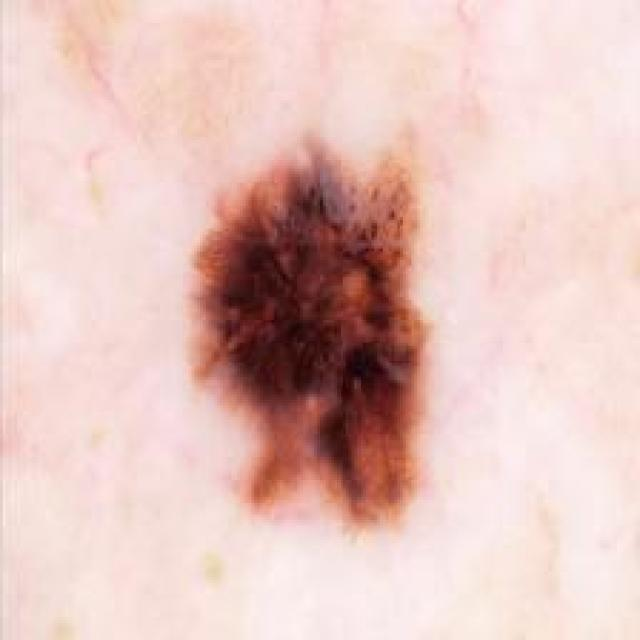Cancer: (183, 126, 431, 534)
